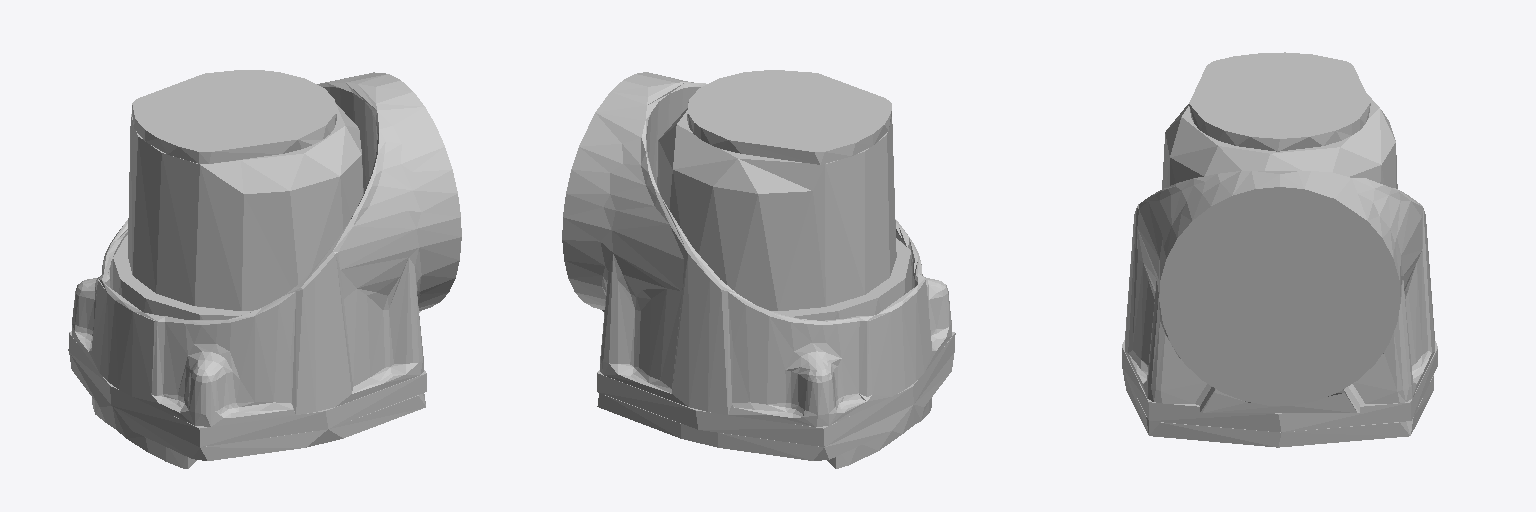
File: hr_hip_visuals_mesh_0.obj
3 views of the same model, side by side, from view 1: azimuth 30°, elevation 25°; view 2: azimuth 150°, elevation 25°; view 3: azimuth 270°, elevation 25° (orthographic).
Size of the model in its own units: 0.1013 by 0.1003 by 0.0956.